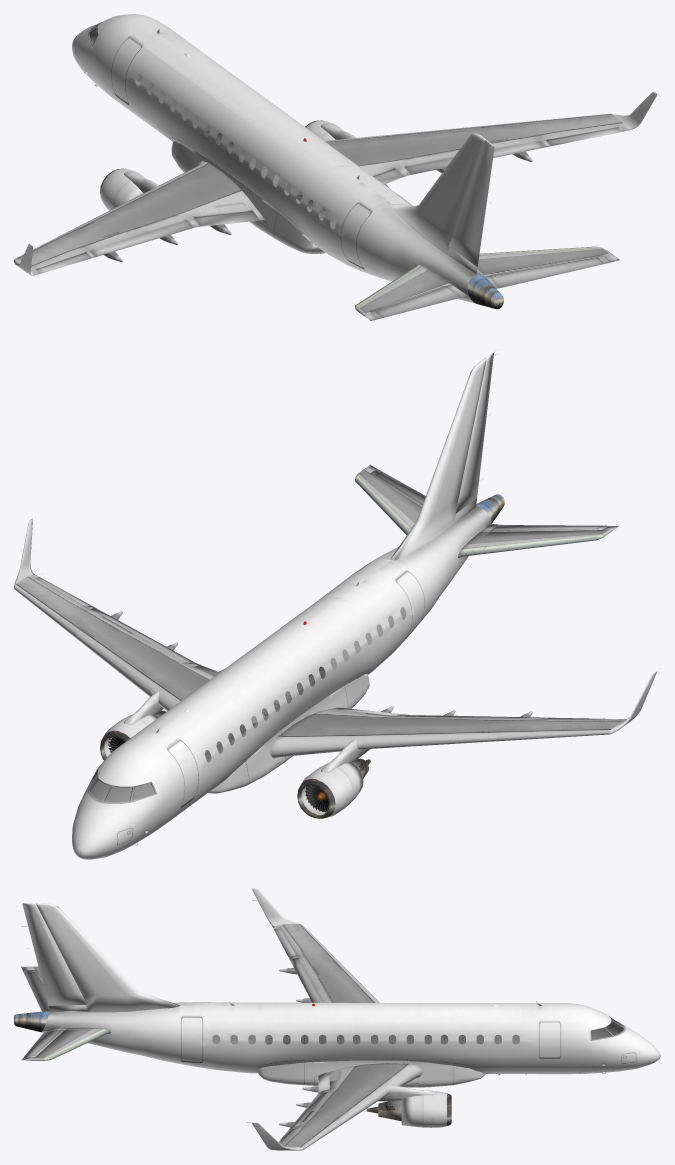
3 views of the same model, one above another, from view 1: azimuth 30°, elevation 25°; view 2: azimuth 150°, elevation 25°; view 3: azimuth 270°, elevation 25° (orthographic). The views are drawn at different scales.
Parts seen in each view (by area): view 1: fuselage, vstab, hstab, fuselage_001, wing_006, wing_003, wing_002, rudder, wing_009, wing_008, wing_005, elevator_r (+11 smaller); view 2: fuselage, vstab, hstab, wing_003, wing_006, wing_002, fuselage_001, wing_009, wing_008, rudder, nacelle_001, wing_005 (+5 smaller); view 3: fuselage, vstab, fuselage_001, rudder, wing_005, wing_002, wing_003, hstab, wing_008, cylinder_003, wing_009, door_r2 (+11 smaller).
Part boxes in pixels (left/top/right/bottom): fuselage: left=72, top=14, right=485, bottom=303; vstab: left=391, top=133, right=485, bottom=274; hstab: left=355, top=246, right=619, bottom=320; fuselage_001: left=171, top=130, right=336, bottom=253; wing_006: left=152, top=161, right=264, bottom=227; wing_003: left=365, top=124, right=521, bottom=175; wing_002: left=78, top=189, right=195, bottom=246; rudder: left=449, top=139, right=498, bottom=266; wing_009: left=498, top=113, right=628, bottom=147; wing_008: left=15, top=227, right=102, bottom=275; wing_005: left=324, top=137, right=407, bottom=177; elevator_r: left=490, top=255, right=609, bottom=288; fuselage: left=72, top=506, right=491, bottom=859; vstab: left=390, top=358, right=486, bottom=560; hstab: left=355, top=464, right=619, bottom=557; wing_003: left=76, top=616, right=195, bottom=696; wing_006: left=270, top=707, right=407, bottom=758; wing_002: left=362, top=714, right=521, bottom=749; fuselage_001: left=205, top=667, right=369, bottom=793; wing_009: left=14, top=574, right=102, bottom=638; wing_008: left=496, top=717, right=626, bottom=741; rudder: left=455, top=350, right=497, bottom=513; nacelle_001: left=297, top=765, right=353, bottom=818; wing_005: left=150, top=663, right=215, bottom=710; fuselage: left=41, top=1001, right=660, bottom=1075; vstab: left=36, top=903, right=180, bottom=1012; fuselage_001: left=257, top=1034, right=485, bottom=1087; rudder: left=16, top=903, right=86, bottom=1005; wing_005: left=318, top=1063, right=422, bottom=1094; wing_002: left=302, top=962, right=379, bottom=1002; wing_003: left=302, top=1086, right=388, bottom=1124; hstab: left=21, top=966, right=111, bottom=1060; wing_008: left=272, top=923, right=340, bottom=964; cylinder_003: left=212, top=1035, right=519, bottom=1044; wing_009: left=282, top=1119, right=342, bottom=1149; door_r2: left=182, top=1015, right=203, bottom=1061.
Bounding box in the file's own units: 25.56 × 29.8 × 9.46.
